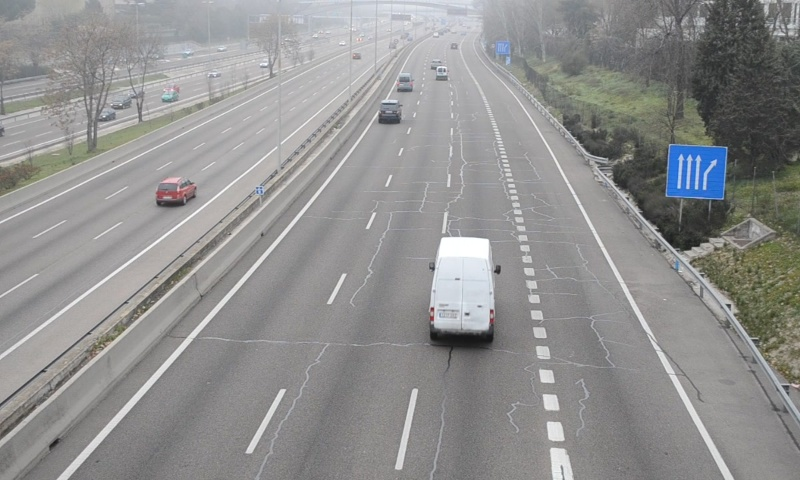car: (378, 99, 402, 124)
van: (428, 236, 497, 339), (396, 72, 412, 89)
